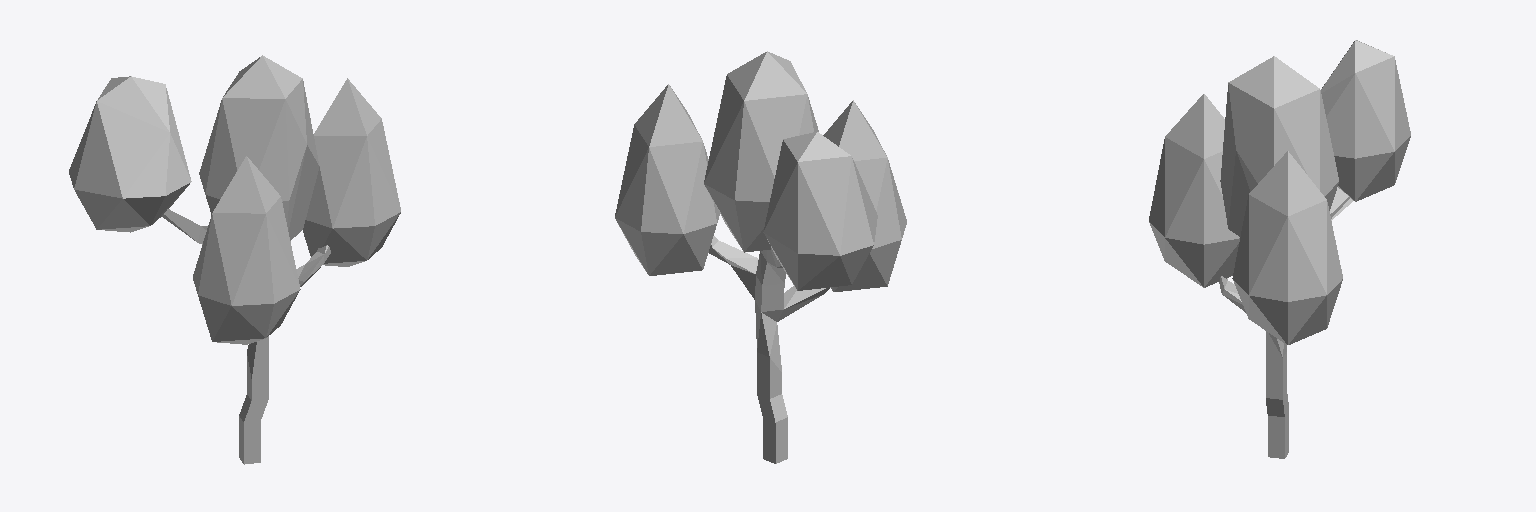
File: debug.obj
3 views of the same model, side by side, from view 1: azimuth 30°, elevation 25°; view 2: azimuth 150°, elevation 25°; view 3: azimuth 270°, elevation 25° (orthographic).
Visible parts, largest first — view 1: Tree_02; view 2: Tree_02; view 3: Tree_02.
Part boxes in pixels (bbox=[...]): Tree_02: bbox=[69, 55, 400, 464]; Tree_02: bbox=[615, 51, 906, 463]; Tree_02: bbox=[1149, 40, 1410, 458].
Bounding box in the file's own units: 1.06 × 1.42 × 0.8387.